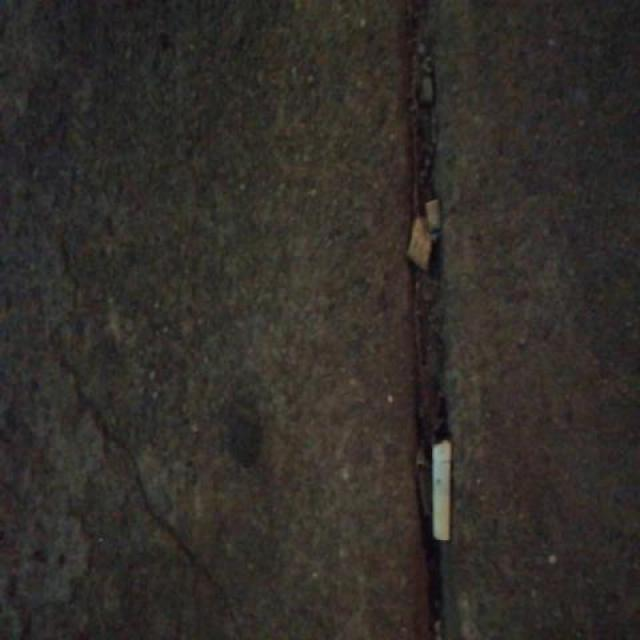non-organic waste: (428, 434, 452, 546)
